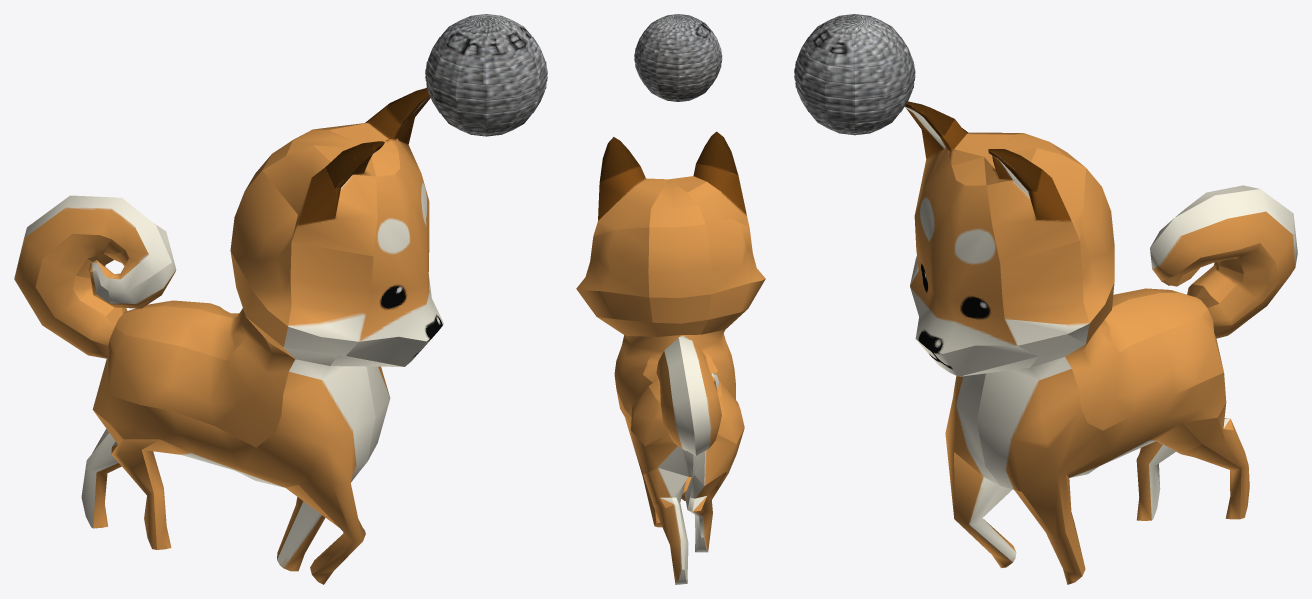
File: ball_frame11.obj
3 views of the same model, side by side, from view 1: azimuth 30°, elevation 25°; view 2: azimuth 150°, elevation 25°; view 3: azimuth 270°, elevation 25° (orthographic). The views are drawn at different scales.
Parts seen in each view (by area): view 1: walk1:newRigging:BodzL1, pSphere1; view 2: walk1:newRigging:BodzL1, pSphere1; view 3: walk1:newRigging:BodzL1, pSphere1.
Boxes of the visible parts, <box> form: walk1:newRigging:BodzL1: <box>14,88,443,584</box>; pSphere1: <box>425,14,547,136</box>; walk1:newRigging:BodzL1: <box>576,131,765,584</box>; pSphere1: <box>634,14,722,101</box>; walk1:newRigging:BodzL1: <box>904,101,1297,584</box>; pSphere1: <box>794,14,915,135</box>.
Bounding box in the file's own units: 5.32 × 9.91 × 7.49.
2 materials, 2 textured.
